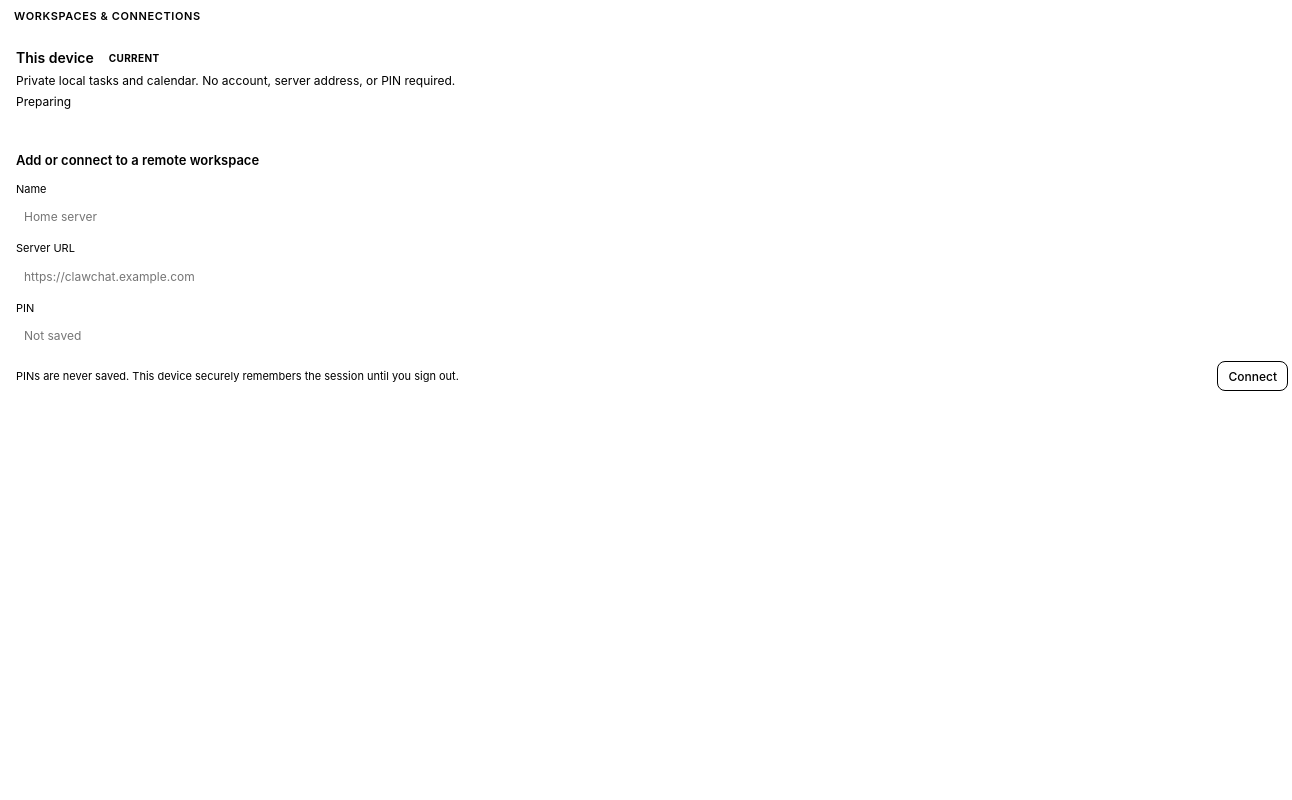
Test: WorkspaceConnectionsSection › keeps local mode running when remote authentication fails
The width and height of the screenshot is (1292, 800).
In the field with placeholder "https://clawchat.example.com": (652, 276) [16, 263, 1288, 290], type "https://work.example"
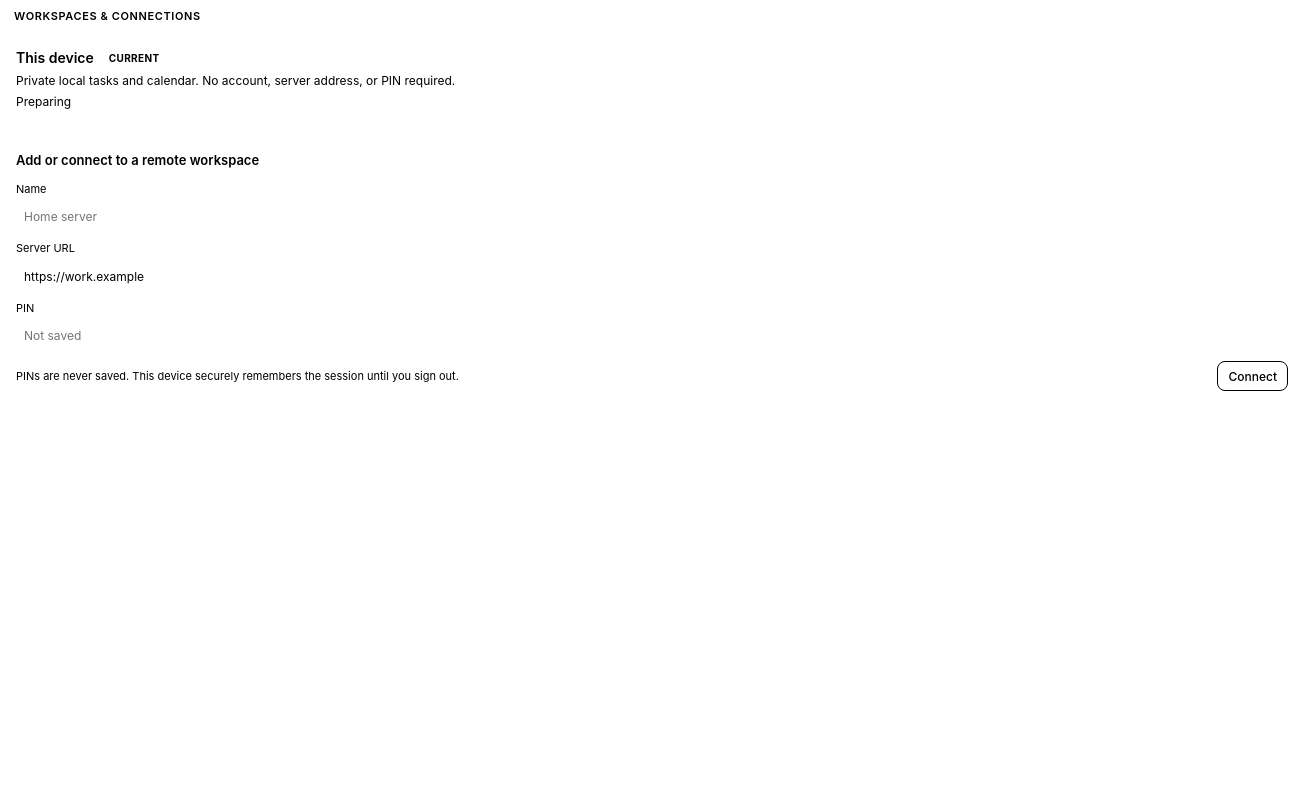
In the password field with placeholder "Not saved": (652, 336) [16, 322, 1288, 349], type "wrong"
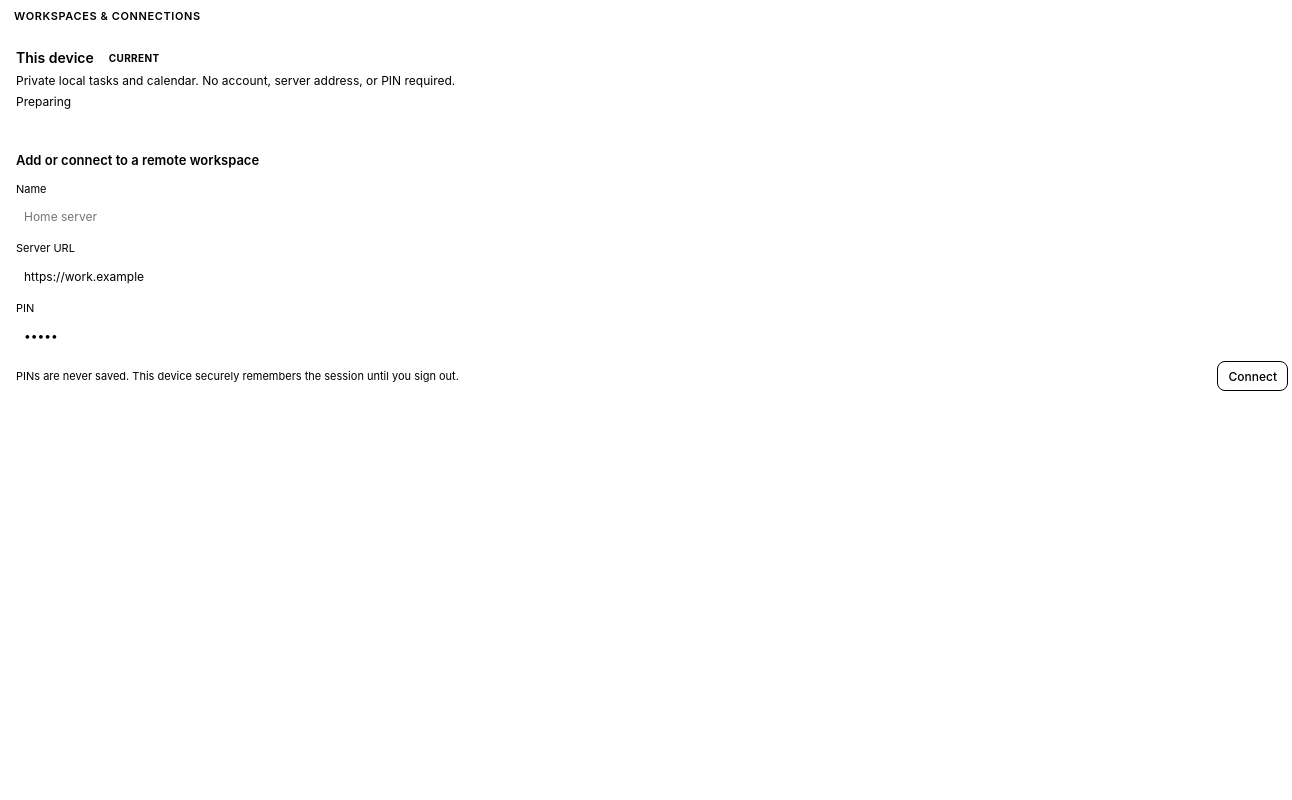
Click the button "Connect": click(1253, 376) [1218, 361, 1288, 391]
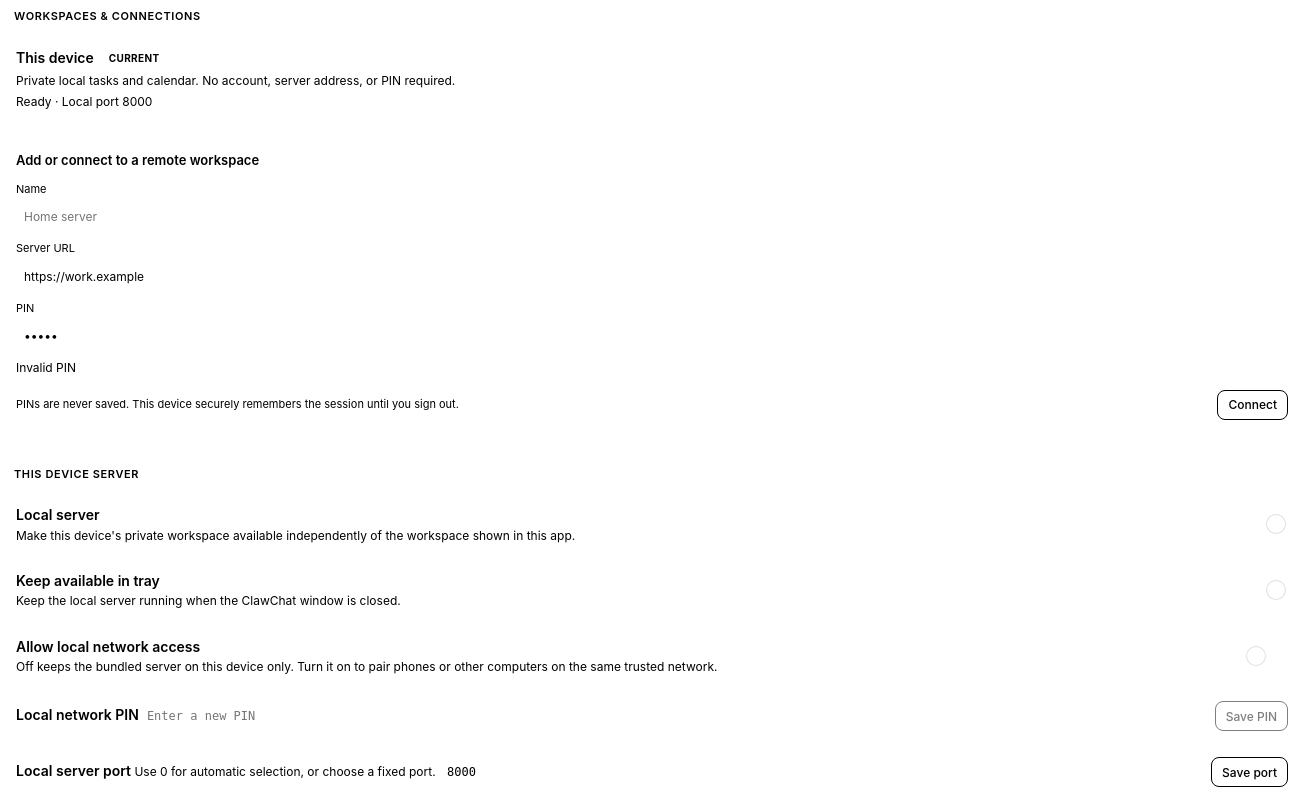
Result: the text "Invalid PIN" is shown at [16, 360, 76, 375]
